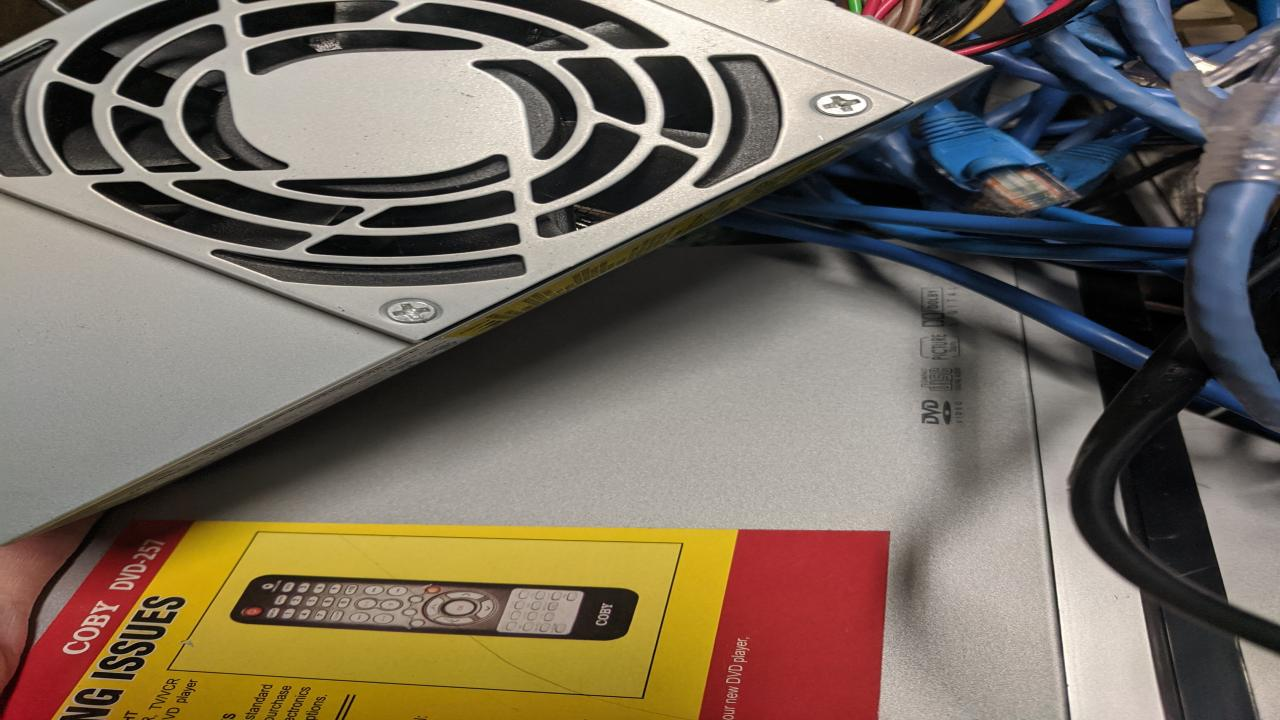CRS: (812, 92, 876, 118), (384, 300, 446, 326)
